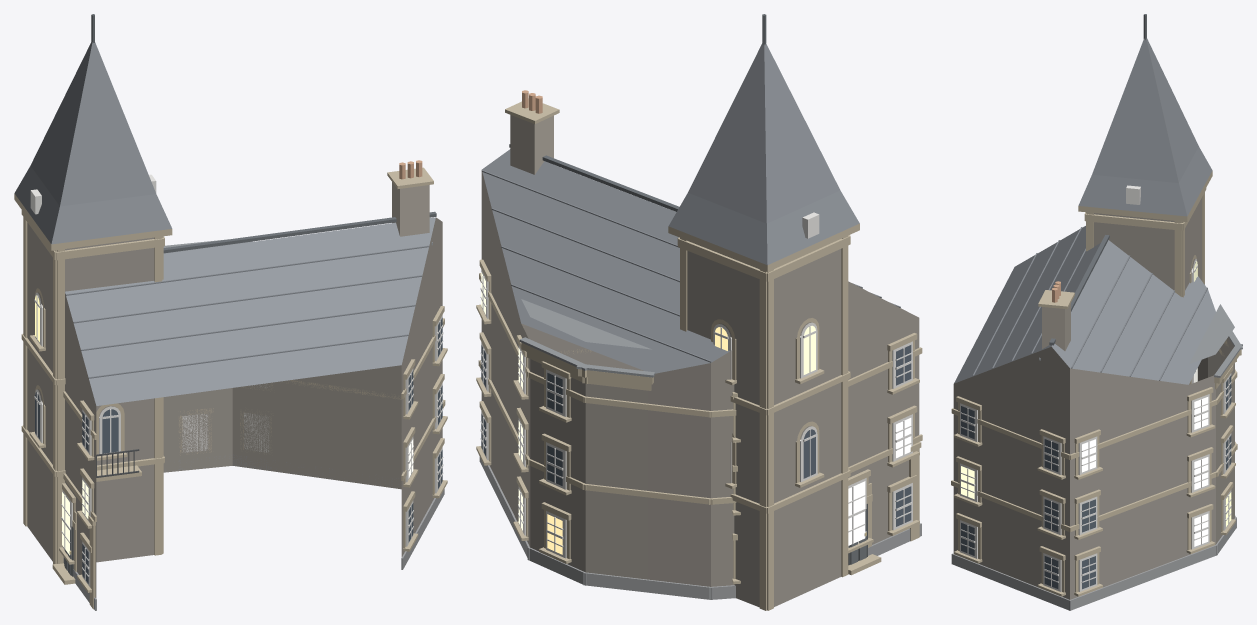
The picture shows the model from 3 angles, left to right: view 1: azimuth 30°, elevation 25°; view 2: azimuth 150°, elevation 25°; view 3: azimuth 270°, elevation 25°; orthographic projection. The views are drawn at different scales.
Visible parts, largest first — view 1: slate_lt, plaque, ss_joint, frame, windows, chim_stone, slate_dk, plinth; view 2: plaque, slate_lt, ss_joint, frame, windows, plinth, lead, chim_stone, slate_dk; view 3: plaque, slate_lt, ss_joint, frame, windows, plinth, lead, chim_stone, slate_dk.
Part boxes in pixels (box(x1,y1,x2,y2)): slate_lt: box(14, 42, 435, 405); plaque: box(27, 217, 442, 597); ss_joint: box(14, 167, 447, 609); frame: box(30, 174, 443, 587); windows: box(35, 295, 442, 583); chim_stone: box(392, 182, 429, 236); slate_dk: box(91, 14, 436, 253); plinth: box(63, 454, 444, 610); plaque: box(481, 170, 919, 607); slate_lt: box(481, 43, 900, 373); ss_joint: box(476, 98, 922, 610); frame: box(480, 212, 912, 558); windows: box(481, 272, 911, 554); plinth: box(479, 457, 921, 599); lead: box(519, 299, 655, 377); chim_stone: box(510, 115, 553, 174); slate_dk: box(509, 14, 766, 211); plaque: box(953, 198, 1234, 599); slate_lt: box(954, 38, 1215, 384); ss_joint: box(951, 171, 1241, 596); frame: box(960, 185, 1231, 591); windows: box(961, 261, 1231, 589); plinth: box(951, 515, 1236, 610); lead: box(1039, 304, 1242, 377); chim_stone: box(1042, 303, 1070, 350); slate_dk: box(1049, 14, 1146, 345).
Bounding box in the file's own units: 15.79 × 20.55 × 11.74.
